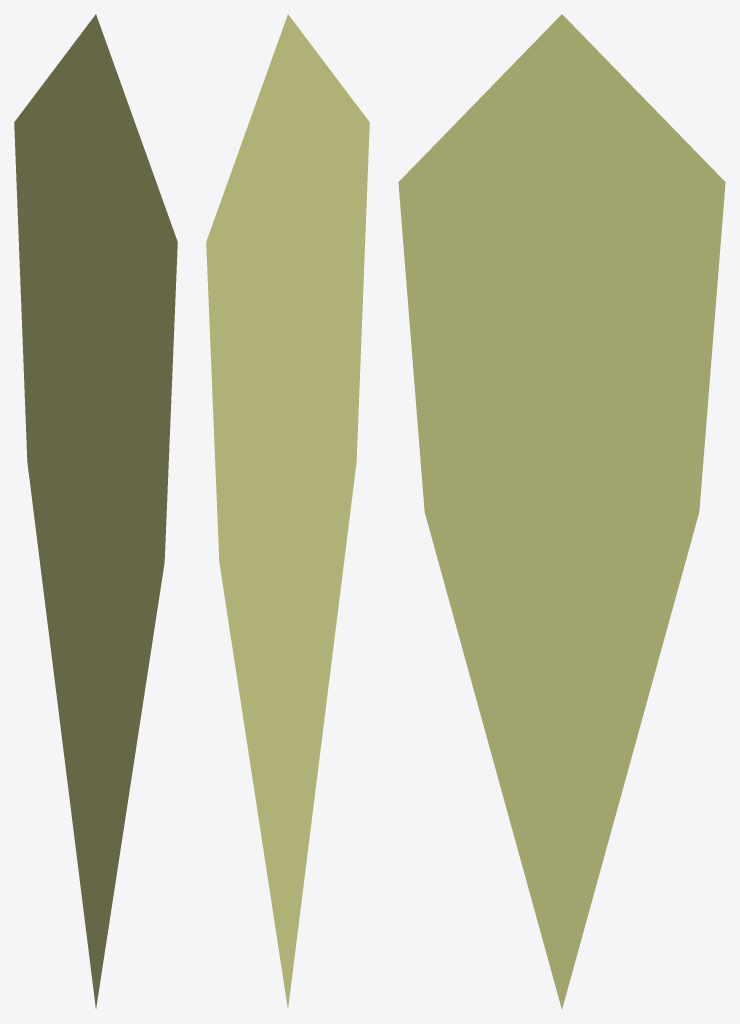
The model's file is flower4_particle.fbx.
3 renders of one model, left to right at view 1: azimuth 30°, elevation 25°; view 2: azimuth 150°, elevation 25°; view 3: azimuth 270°, elevation 25°, orthographic.
Visible parts, largest first — view 1: Cloner; view 2: Cloner; view 3: Cloner.
Boxes of the visible parts, x1,y1,x2,y2 form: Cloner: (14,14,177,1008); Cloner: (206,14,369,1008); Cloner: (398,14,725,1008).
Size of the model in its own units: 9.37e-08 by 10 by 2.98.
